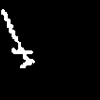double_crochet: (1, 9, 34, 67)
